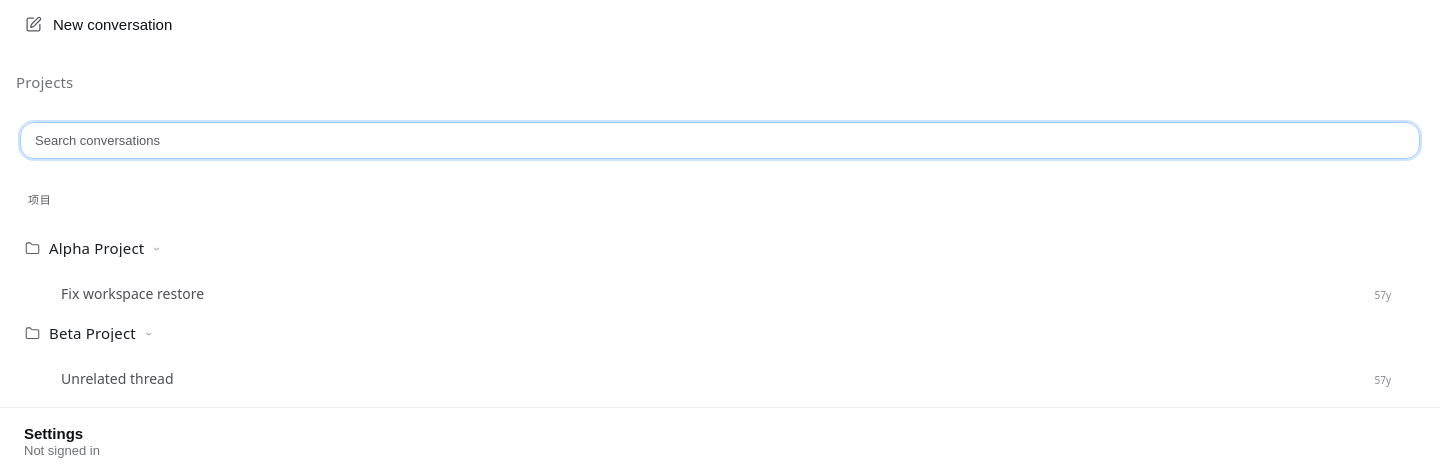
Scenario: Sidebar › keeps a project visible when its thread matches the search query
In the field with placeholder "Search conversations": (720, 140) [20, 122, 1420, 159], type "restore"
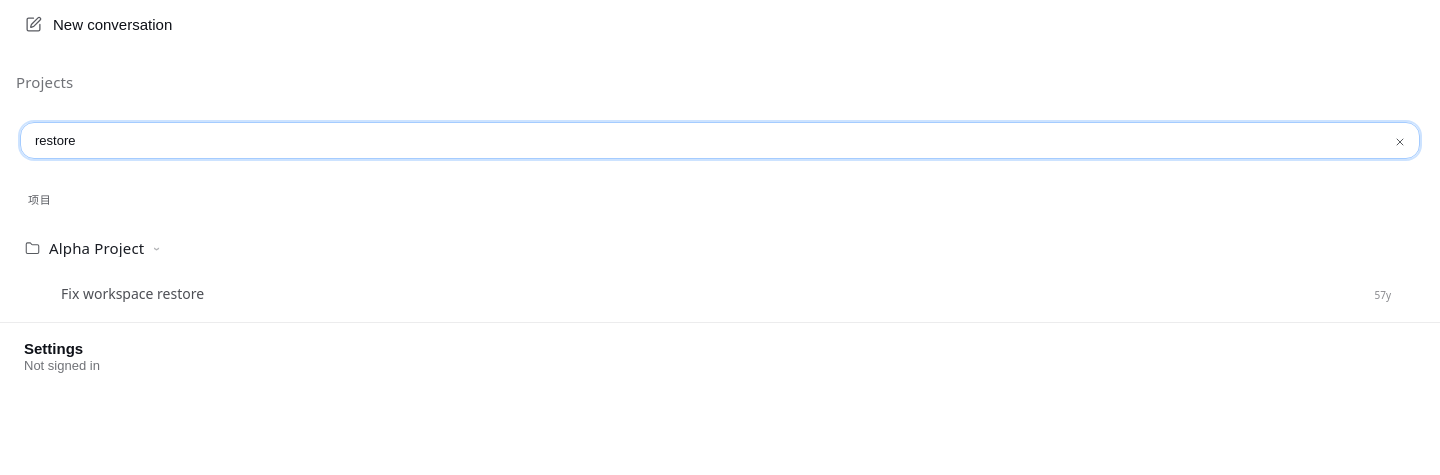
Expected: the text "Alpha Project" is shown, [49, 240, 144, 257]
Now the button "Beta Project" is gone
Now the button "Unrelated thread" is gone
